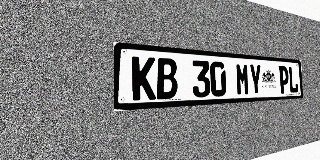0: (210, 61, 226, 97)
3: (192, 60, 210, 98)
B: (156, 58, 178, 99)
K: (132, 56, 156, 101)
L: (288, 66, 298, 93)
M: (235, 63, 250, 96)
P: (278, 66, 289, 94)
Y: (249, 64, 262, 95)
